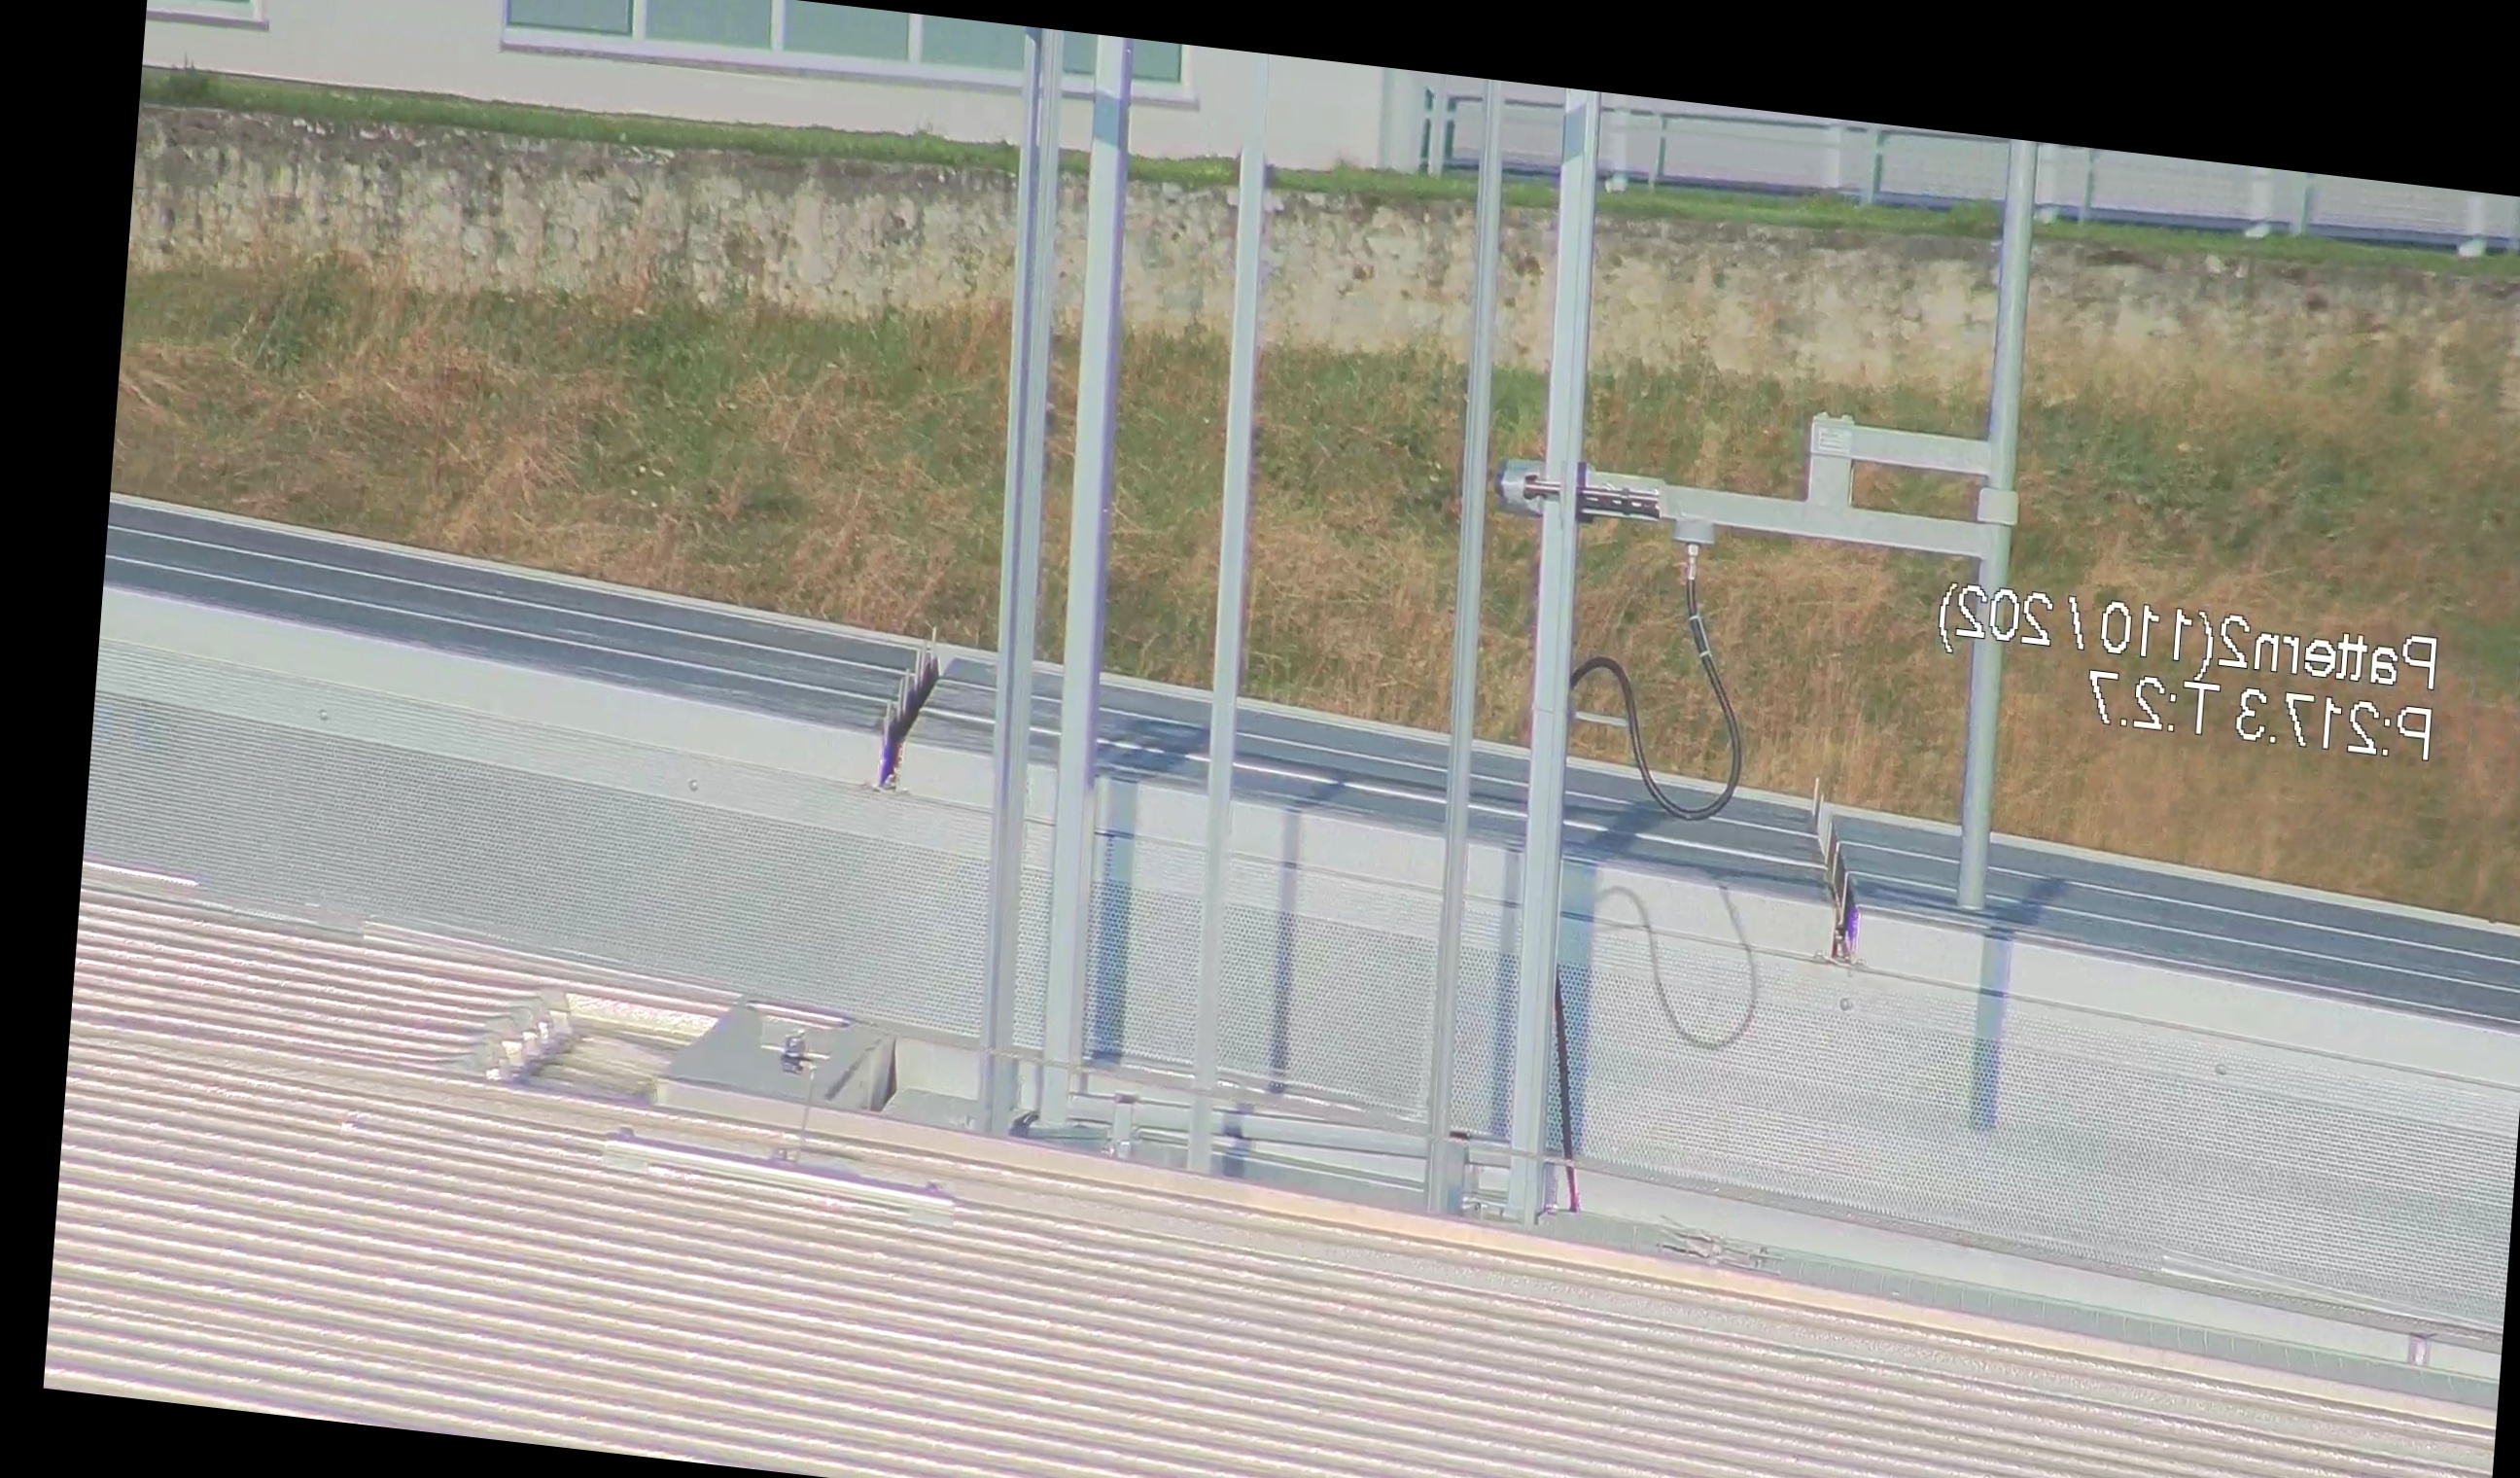Other: (856, 623, 960, 797)
